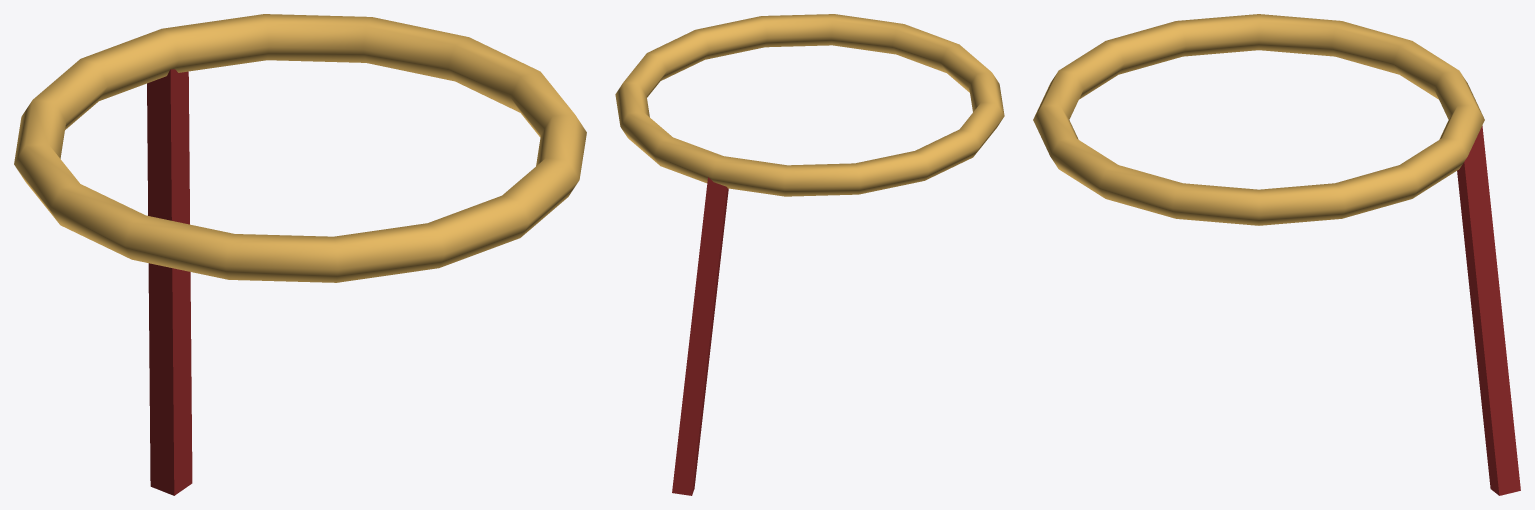
Rendered from muaythai-mongkhon.glb.
The picture shows the model from 3 angles, left to right: view 1: azimuth 30°, elevation 25°; view 2: azimuth 150°, elevation 25°; view 3: azimuth 270°, elevation 25°; orthographic projection. The views are drawn at different scales.
Parts seen in each view (by area): view 1: Cord, CordTail; view 2: Cord, CordTail; view 3: Cord, CordTail.
Part boxes in pixels (x1,y1,x2,y2): Cord: (14,14,586,282); CordTail: (147,69,192,495); Cord: (615,14,1004,196); CordTail: (672,177,728,495); Cord: (1033,14,1484,225); CordTail: (1457,126,1520,495).
Size of the model in its own units: 0.348 by 0.3186 by 0.3757.
